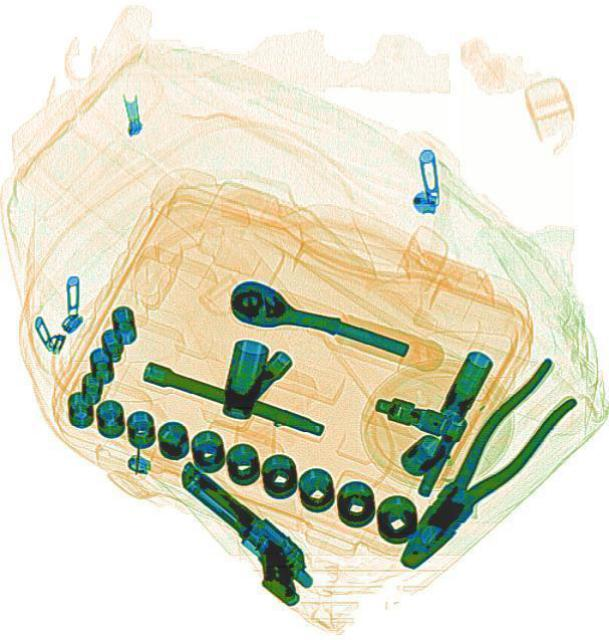Gun: (152, 458, 325, 608)
Pliers: (380, 352, 588, 582)
